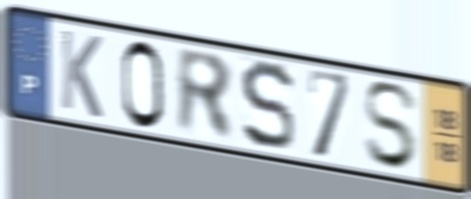0: (120, 38, 167, 131)
7: (306, 66, 351, 163)
K: (58, 25, 105, 123)
R: (174, 43, 237, 145)
S: (360, 79, 421, 173), (238, 58, 297, 155)
